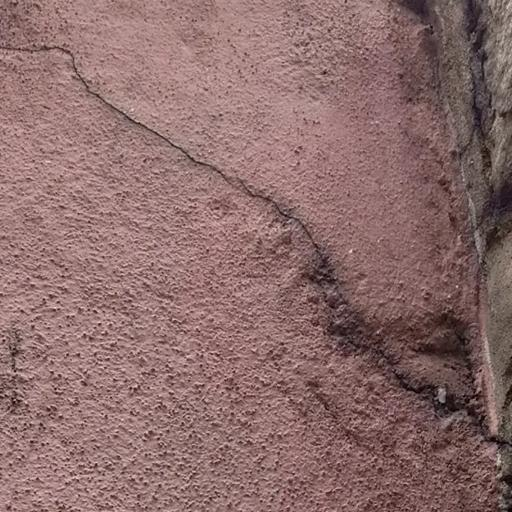minor_crack: (0, 36, 512, 451)
